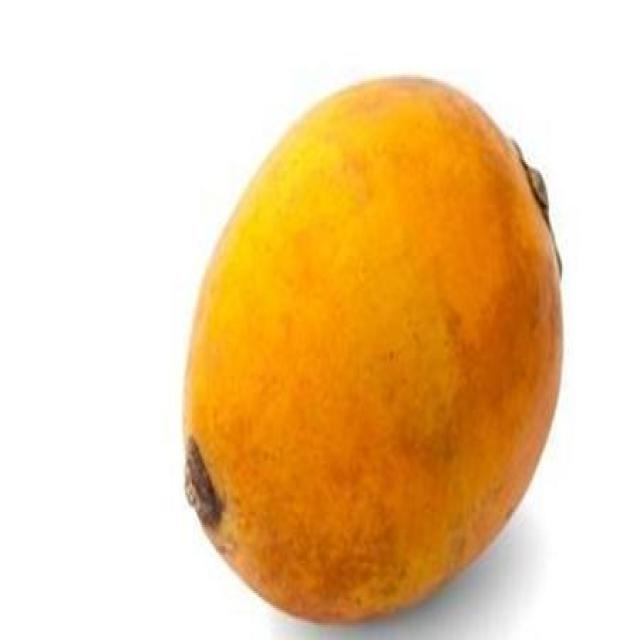good: (182, 77, 563, 627)
